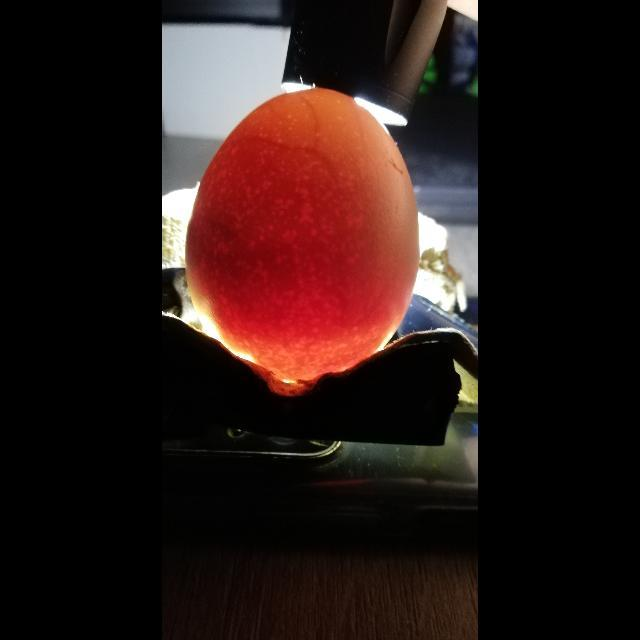Fertile: (183, 90, 427, 382)
